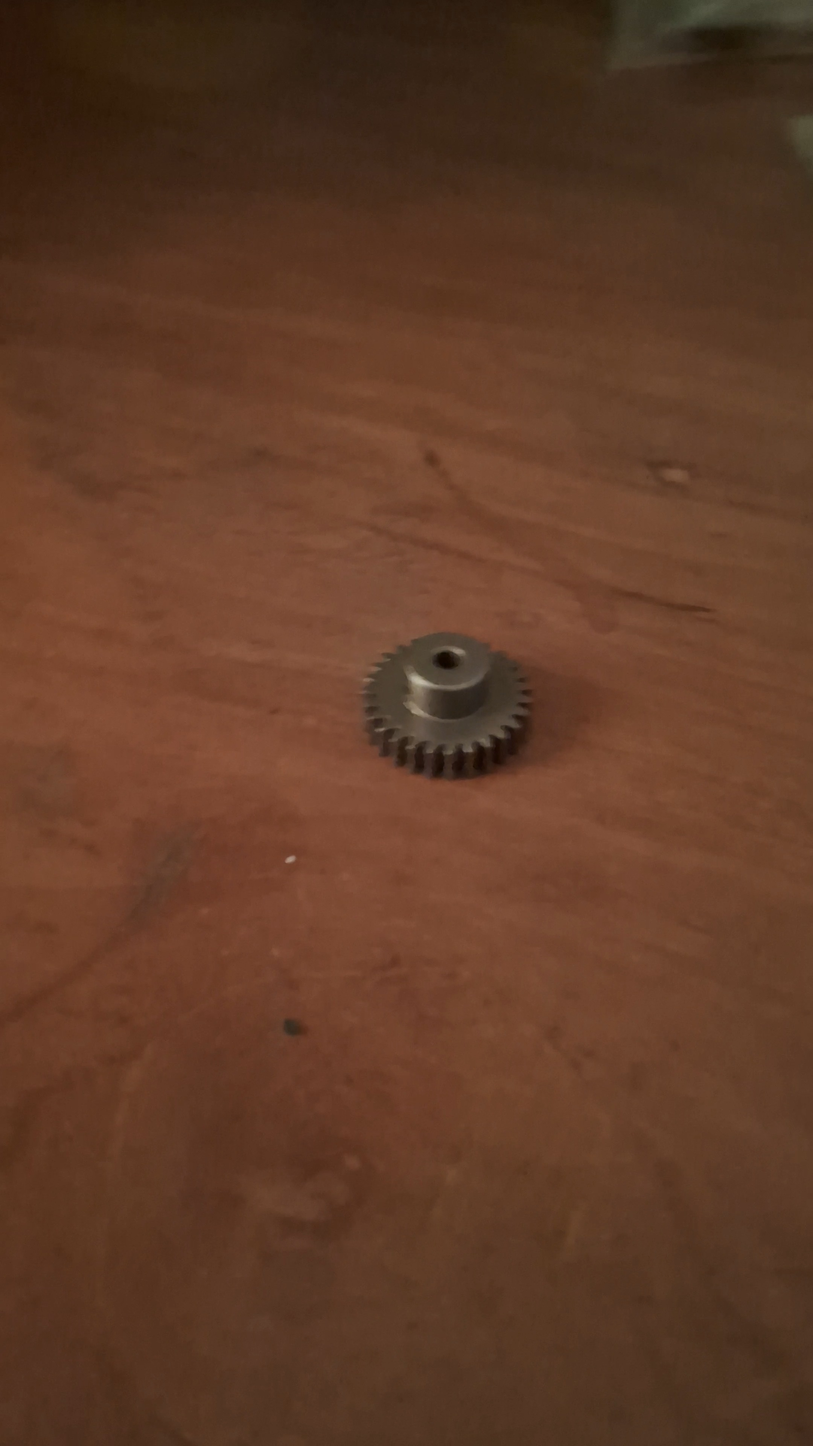spur gear: (363, 633, 530, 778)
